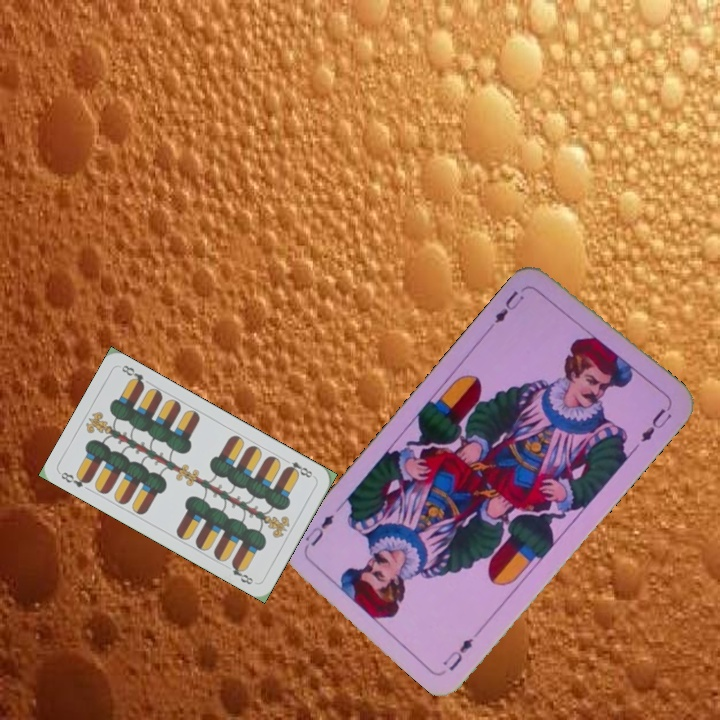E8: (280, 455, 317, 481), (57, 468, 93, 490)
EU: (438, 626, 484, 674), (490, 286, 527, 326)
